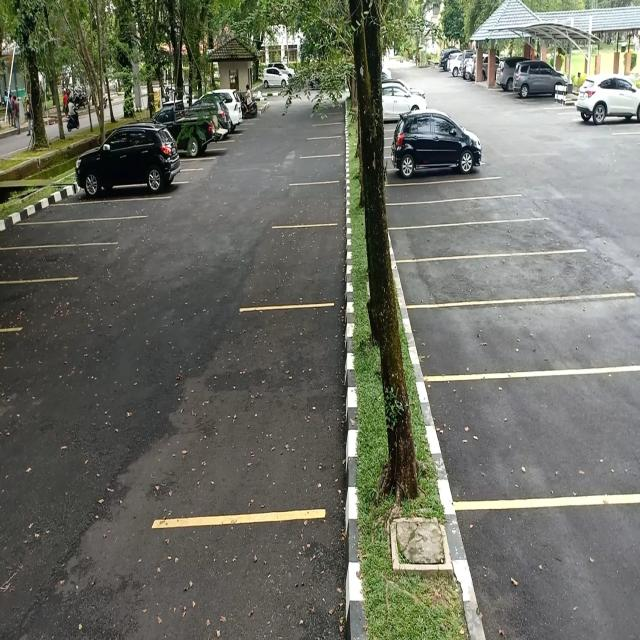empty: (216, 306, 340, 526), (447, 373, 640, 507), (419, 302, 640, 379), (406, 254, 570, 306), (267, 224, 341, 309), (394, 226, 546, 262), (0, 243, 102, 283), (390, 201, 522, 226), (14, 223, 131, 251), (288, 182, 342, 228), (387, 183, 506, 203), (45, 200, 147, 221), (300, 155, 342, 184), (307, 137, 343, 157)
occupied: (73, 155, 184, 206), (389, 145, 491, 186)
